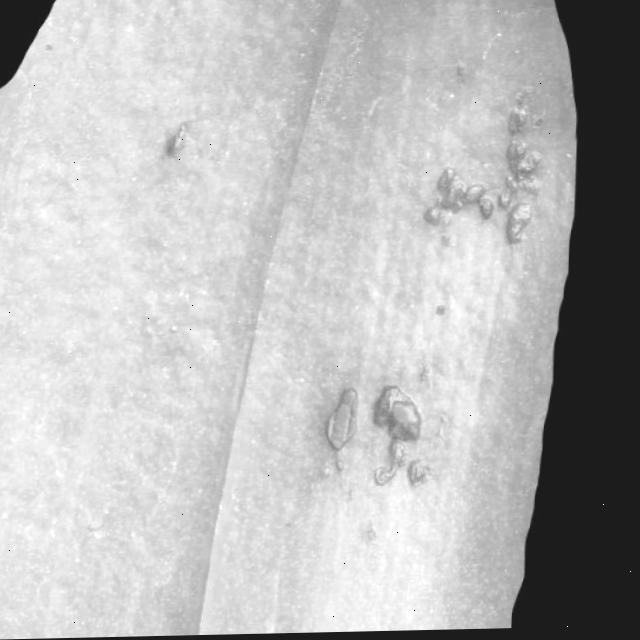mite: (150, 84, 555, 256), (377, 385, 430, 444), (328, 386, 365, 454), (508, 203, 538, 246), (153, 323, 188, 358), (508, 103, 534, 137), (411, 458, 438, 490), (433, 298, 457, 324), (480, 195, 499, 223), (454, 59, 473, 86), (437, 303, 453, 320), (45, 40, 59, 53)
sunburn: (421, 88, 553, 255)
